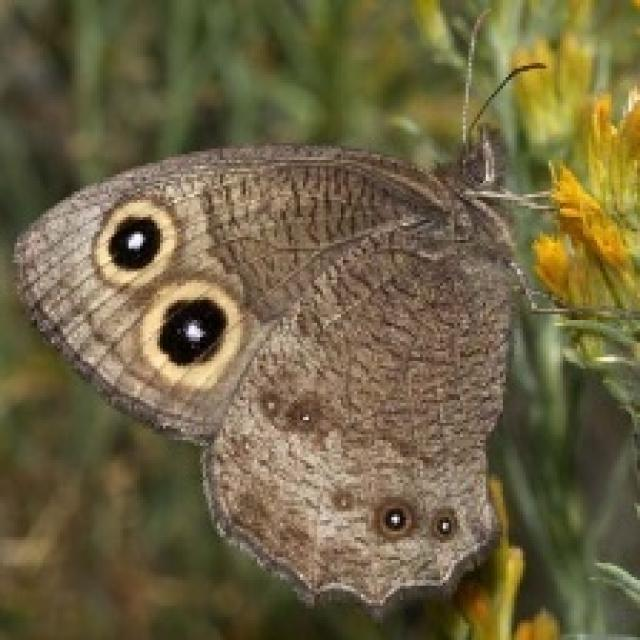butterfly: (9, 6, 557, 611)
